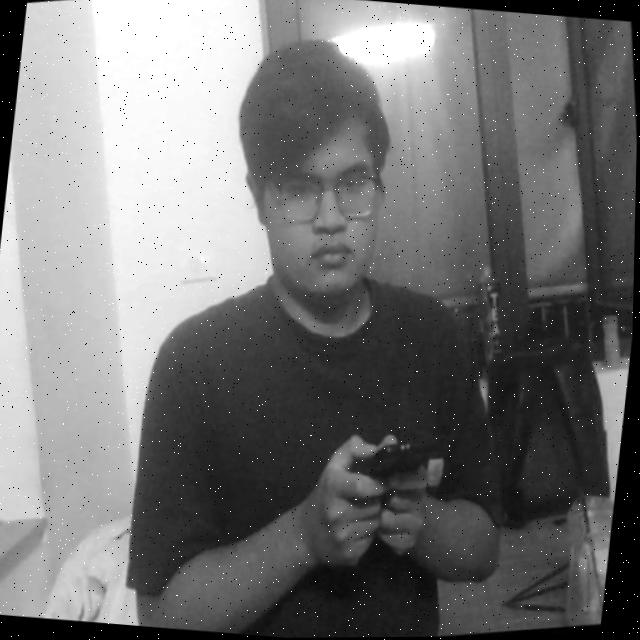phone: (336, 427, 443, 514)
